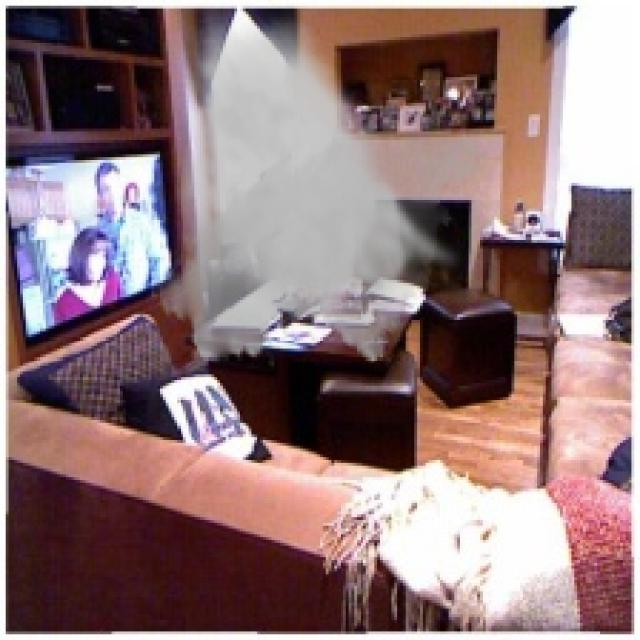smoke: (148, 3, 492, 371)
